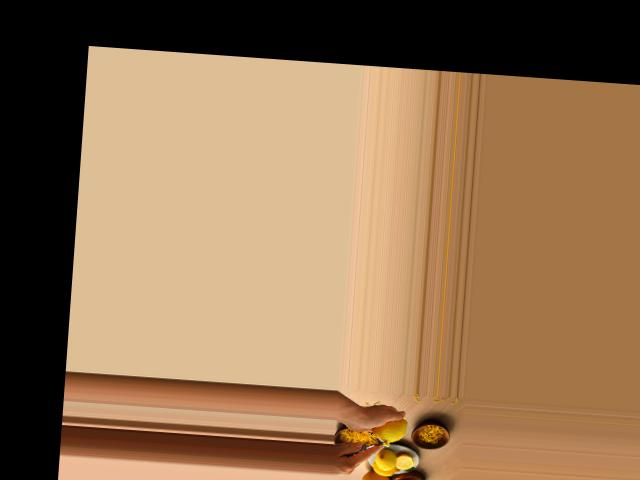lemon: (370, 411, 407, 445)
